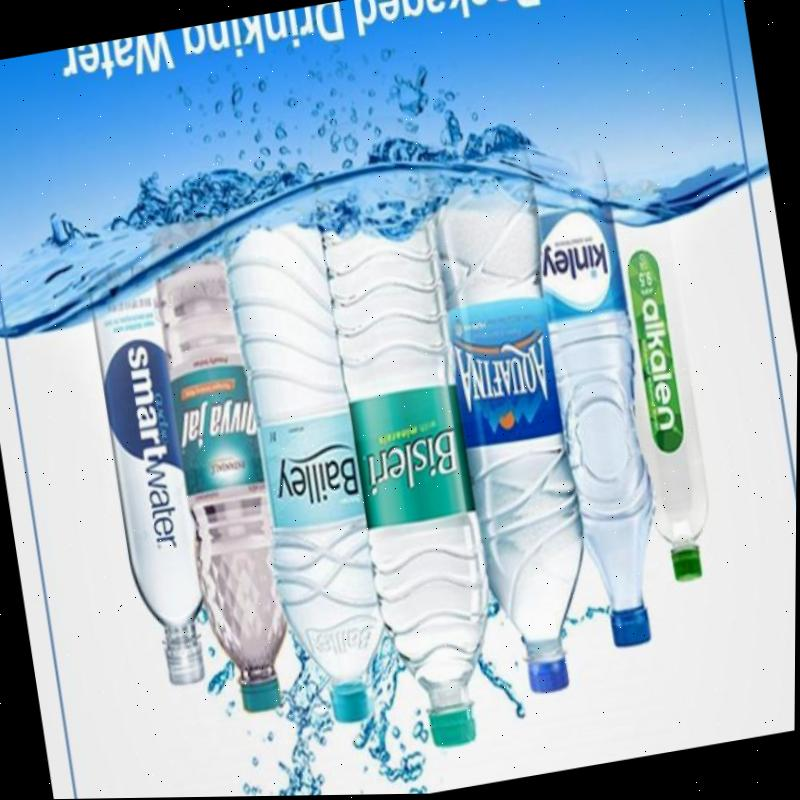botella: (312, 198, 509, 755), (421, 182, 607, 702), (217, 218, 398, 733), (143, 209, 302, 717), (528, 188, 677, 653)
